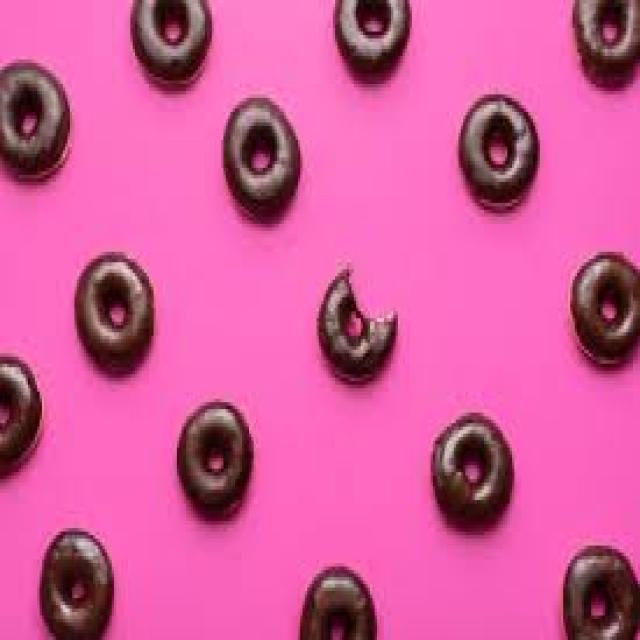Donut: (50, 240, 205, 403), (208, 100, 333, 241), (0, 31, 107, 187), (282, 540, 445, 640), (436, 77, 554, 215), (289, 273, 411, 402), (116, 0, 242, 91), (564, 244, 638, 386), (319, 0, 441, 82)
